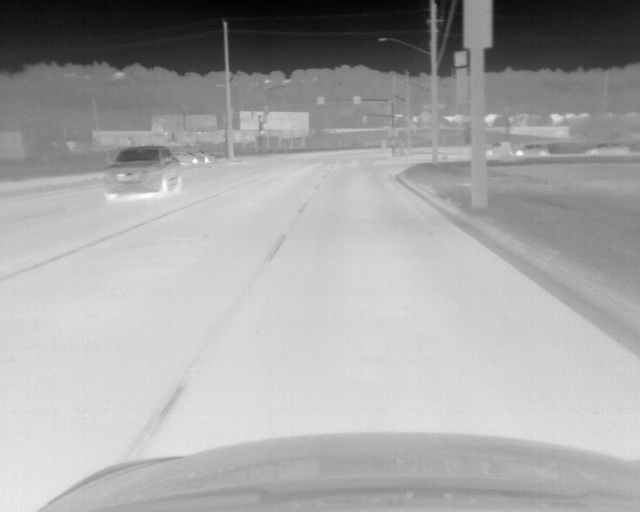car: (103, 146, 181, 200), (586, 143, 628, 155), (173, 152, 205, 164), (516, 144, 548, 155), (197, 151, 217, 162)
